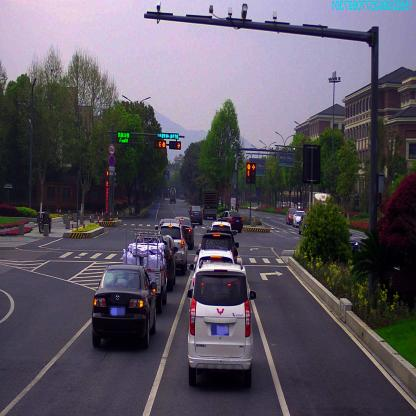traffic-light: (155, 134, 179, 138), (170, 140, 181, 148), (154, 141, 166, 148)
